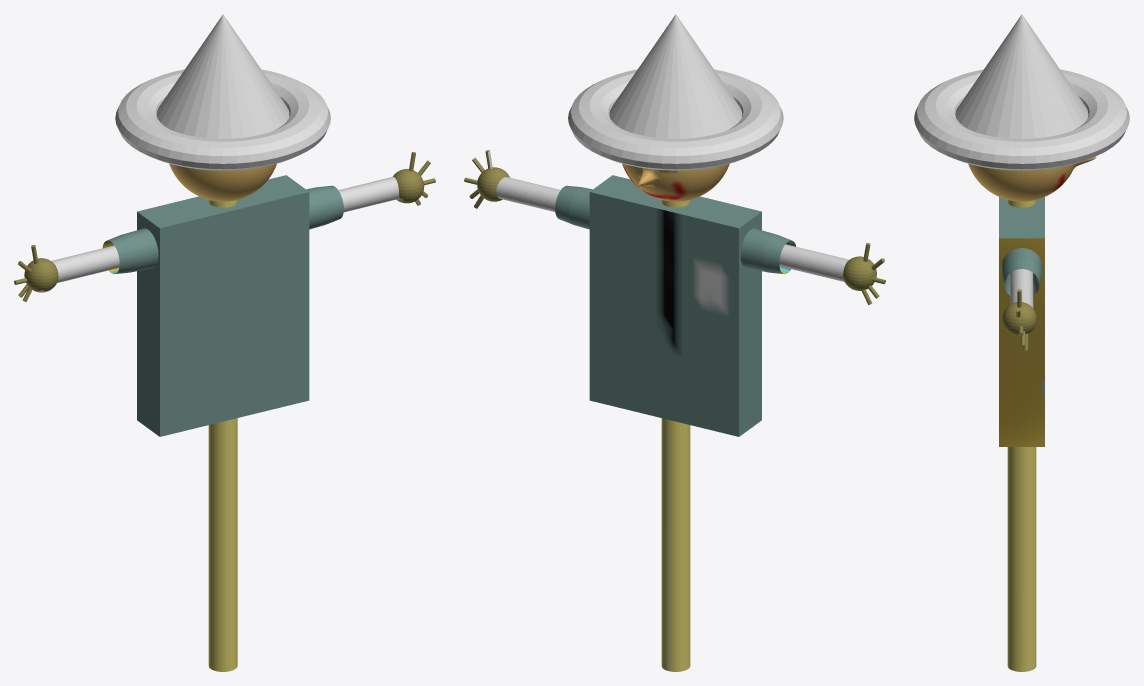
File: scarecrow.fbx
3 views of the same model, side by side, from view 1: azimuth 30°, elevation 25°; view 2: azimuth 150°, elevation 25°; view 3: azimuth 270°, elevation 25° (orthographic).
Visible parts, largest first — view 1: Cube, Torus, Cone, Cylinder, Torus.001, Cylinder.001, Icosphere, Sphere.006, Sphere.001; view 2: Cube, Torus, Cone, Cylinder, Torus.001, Cylinder.001, Icosphere, Sphere.006, Sphere.001; view 3: Torus, Cone, Cube, Cylinder, Icosphere, Torus.001, Sphere.001, Cylinder.001.
Part boxes in pixels (<box>): Cube: <box>137,175,309,436</box>; Torus: <box>115,69,330,170</box>; Cone: <box>156,14,289,138</box>; Cylinder: <box>208,200,237,671</box>; Torus.001: <box>102,185,343,274</box>; Cylinder.001: <box>51,176,398,282</box>; Icosphere: <box>169,163,276,201</box>; Sphere.006: <box>24,258,58,292</box>; Sphere.001: <box>393,169,424,203</box>; Cube: <box>589,175,761,436</box>; Torus: <box>568,69,783,170</box>; Cone: <box>609,14,742,138</box>; Cylinder: <box>661,200,690,671</box>; Torus.001: <box>555,185,795,274</box>; Cylinder.001: <box>496,177,849,281</box>; Icosphere: <box>622,163,729,201</box>; Sphere.006: <box>843,256,876,290</box>; Sphere.001: <box>477,167,509,201</box>; Torus: <box>914,69,1129,170</box>; Cone: <box>955,14,1088,138</box>; Cube: <box>999,197,1044,446</box>; Cylinder: <box>1007,200,1036,671</box>; Icosphere: <box>968,156,1096,201</box>; Torus.001: <box>1001,248,1042,295</box>; Sphere.001: <box>1002,302,1036,336</box>; Cylinder.001: <box>1010,269,1033,307</box>.
Size of the model in its own units: 842 by 1250 by 375.
